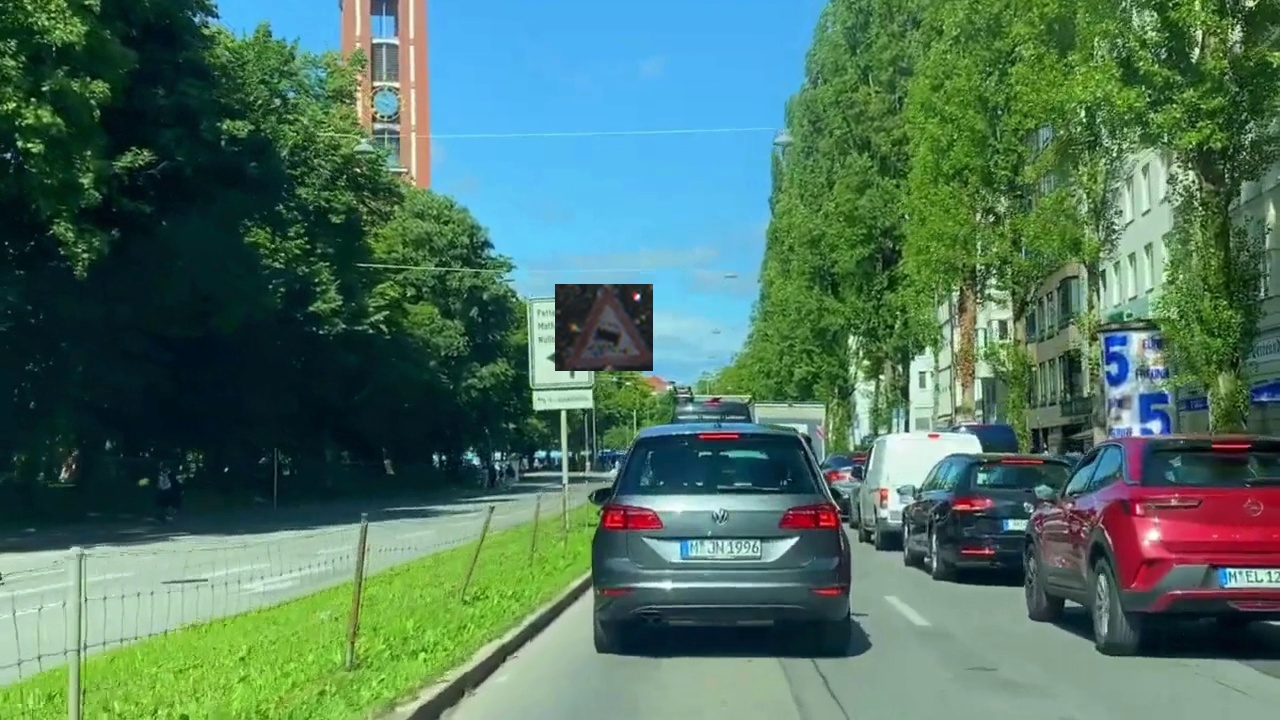Slippery: (555, 284, 653, 371)
